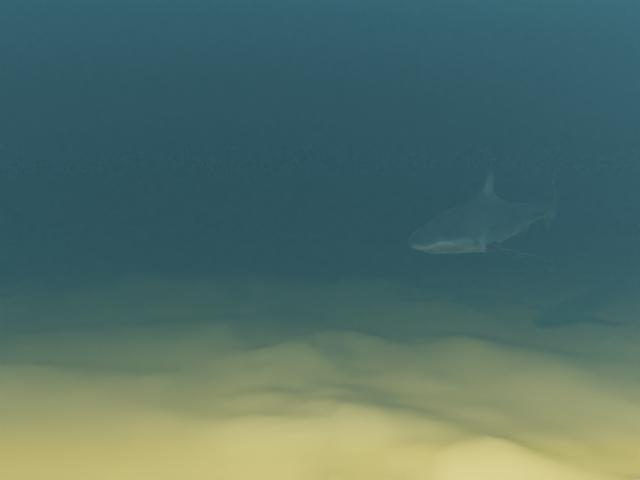Carribean Shark.001: (407, 160, 558, 261)
